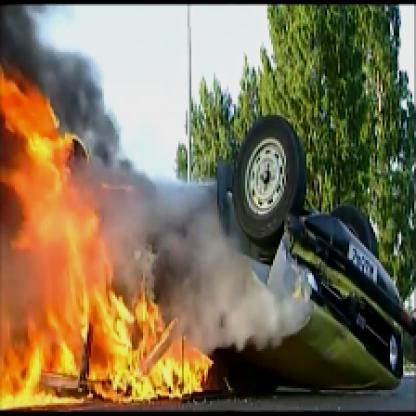Fire: (2, 54, 225, 414)
